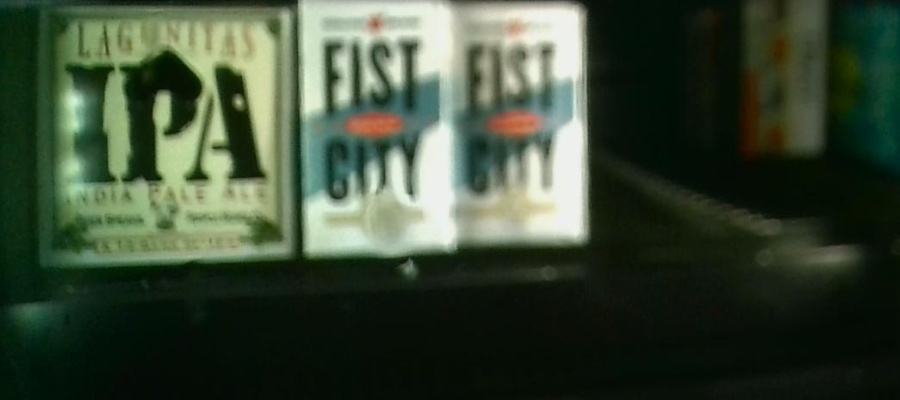bottle: (38, 6, 299, 264), (300, 1, 456, 254), (456, 3, 587, 245)
